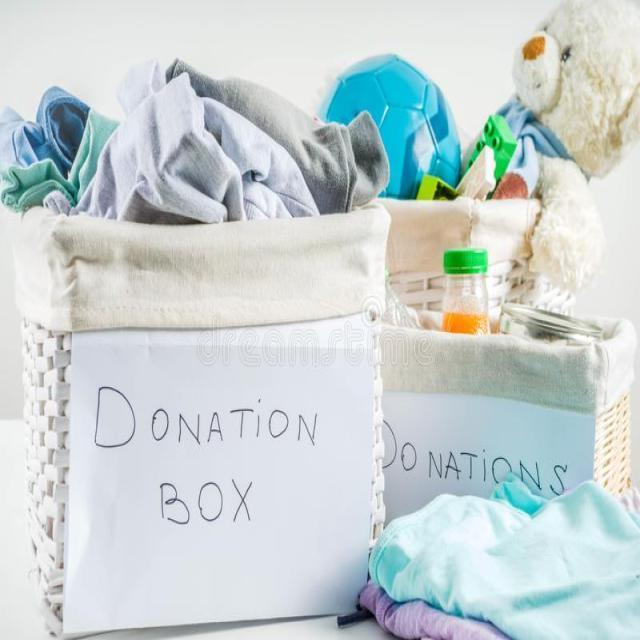clothes: (15, 133, 355, 217), (389, 531, 640, 640)
